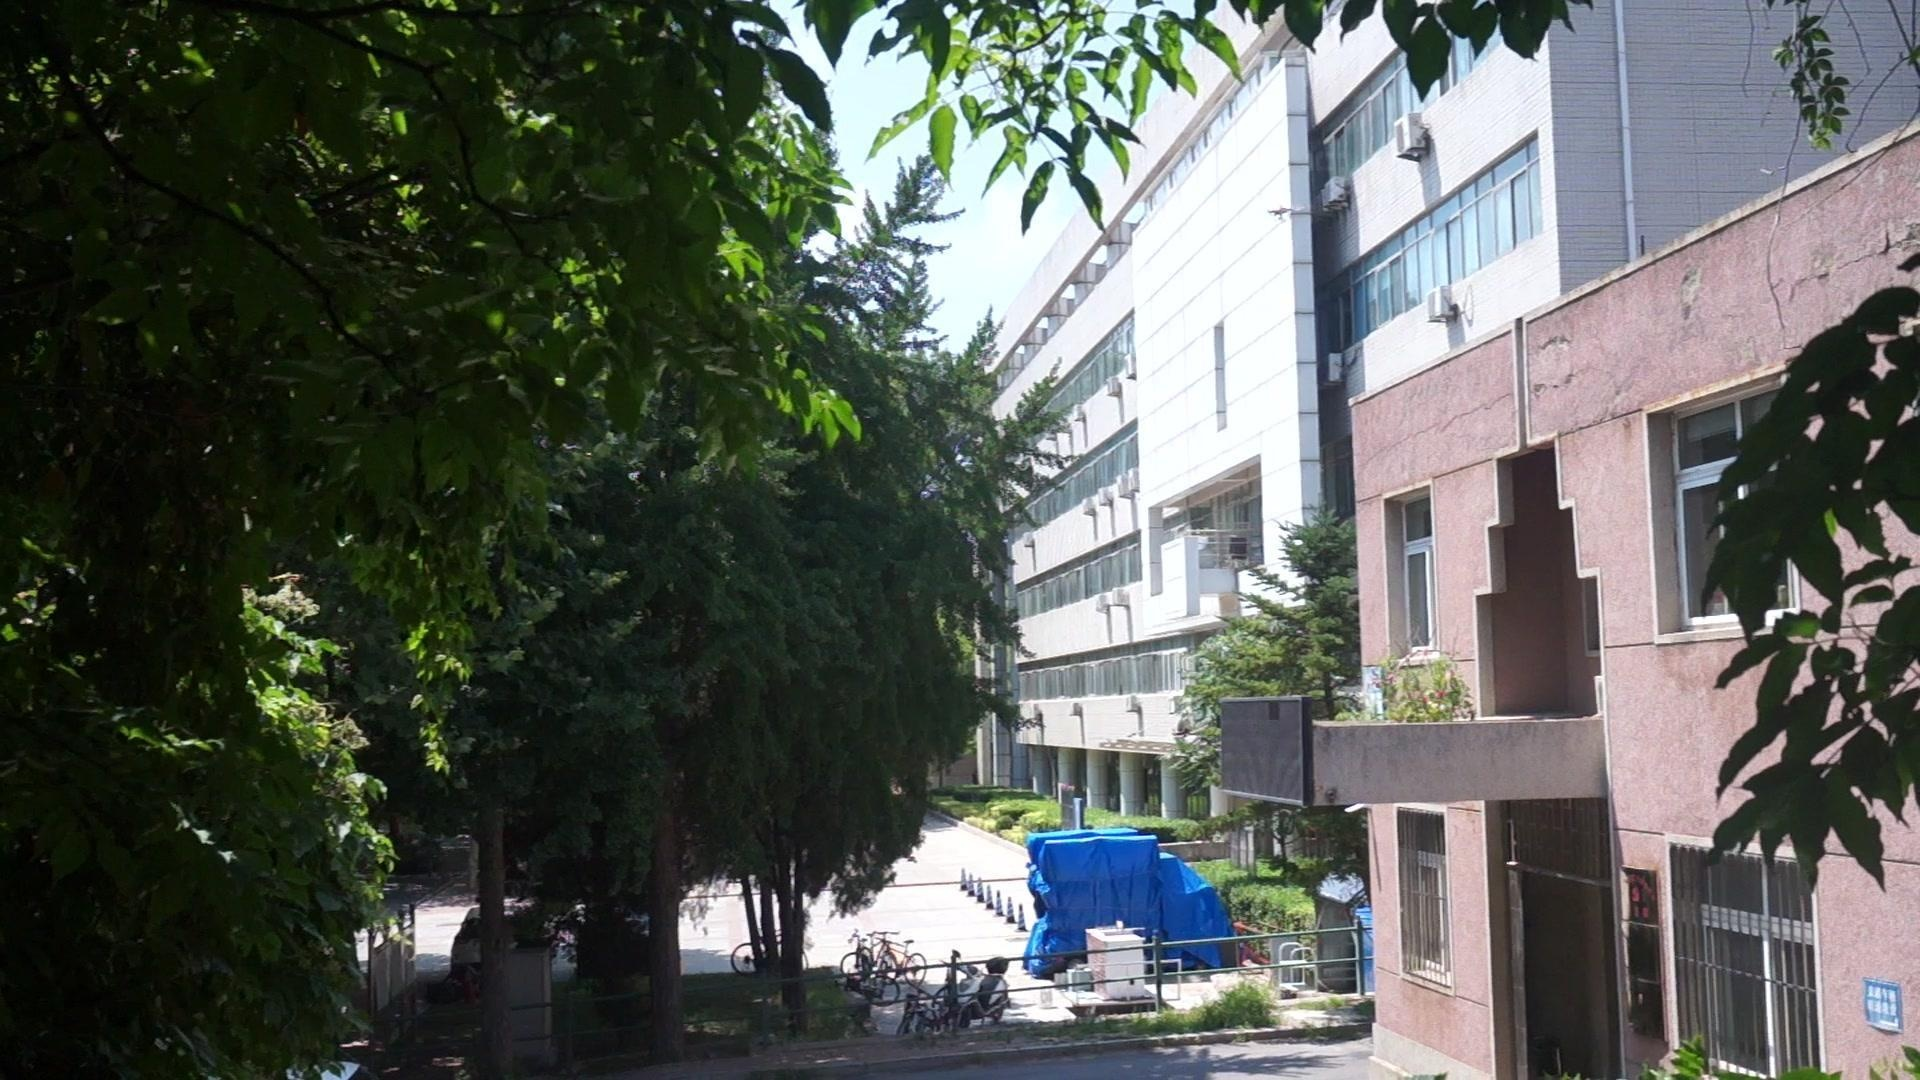UAV: (1267, 204, 1302, 222)
